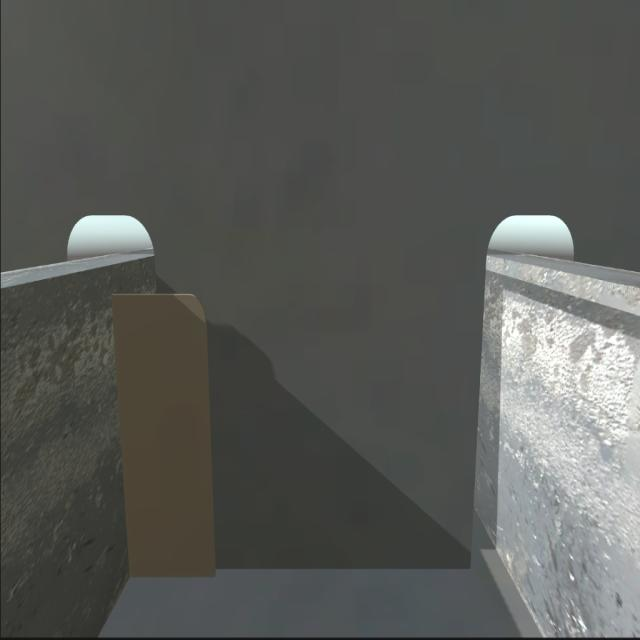fillet_yong_jeop_jang: (123, 558, 474, 590)
longi_yong_jeop_jang: (105, 292, 139, 578)
plate_CP05: (112, 298, 218, 584)
